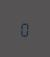zero: (19, 19, 28, 37)
